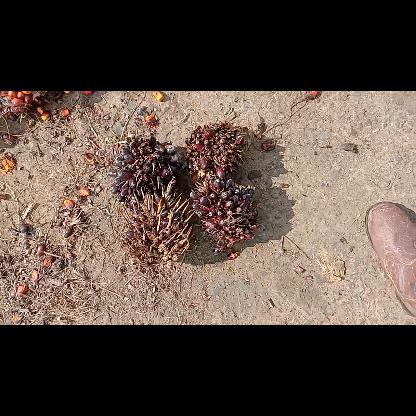TBS abnormal: (121, 176, 193, 266), (109, 134, 183, 207), (190, 178, 260, 254), (185, 121, 245, 179)
